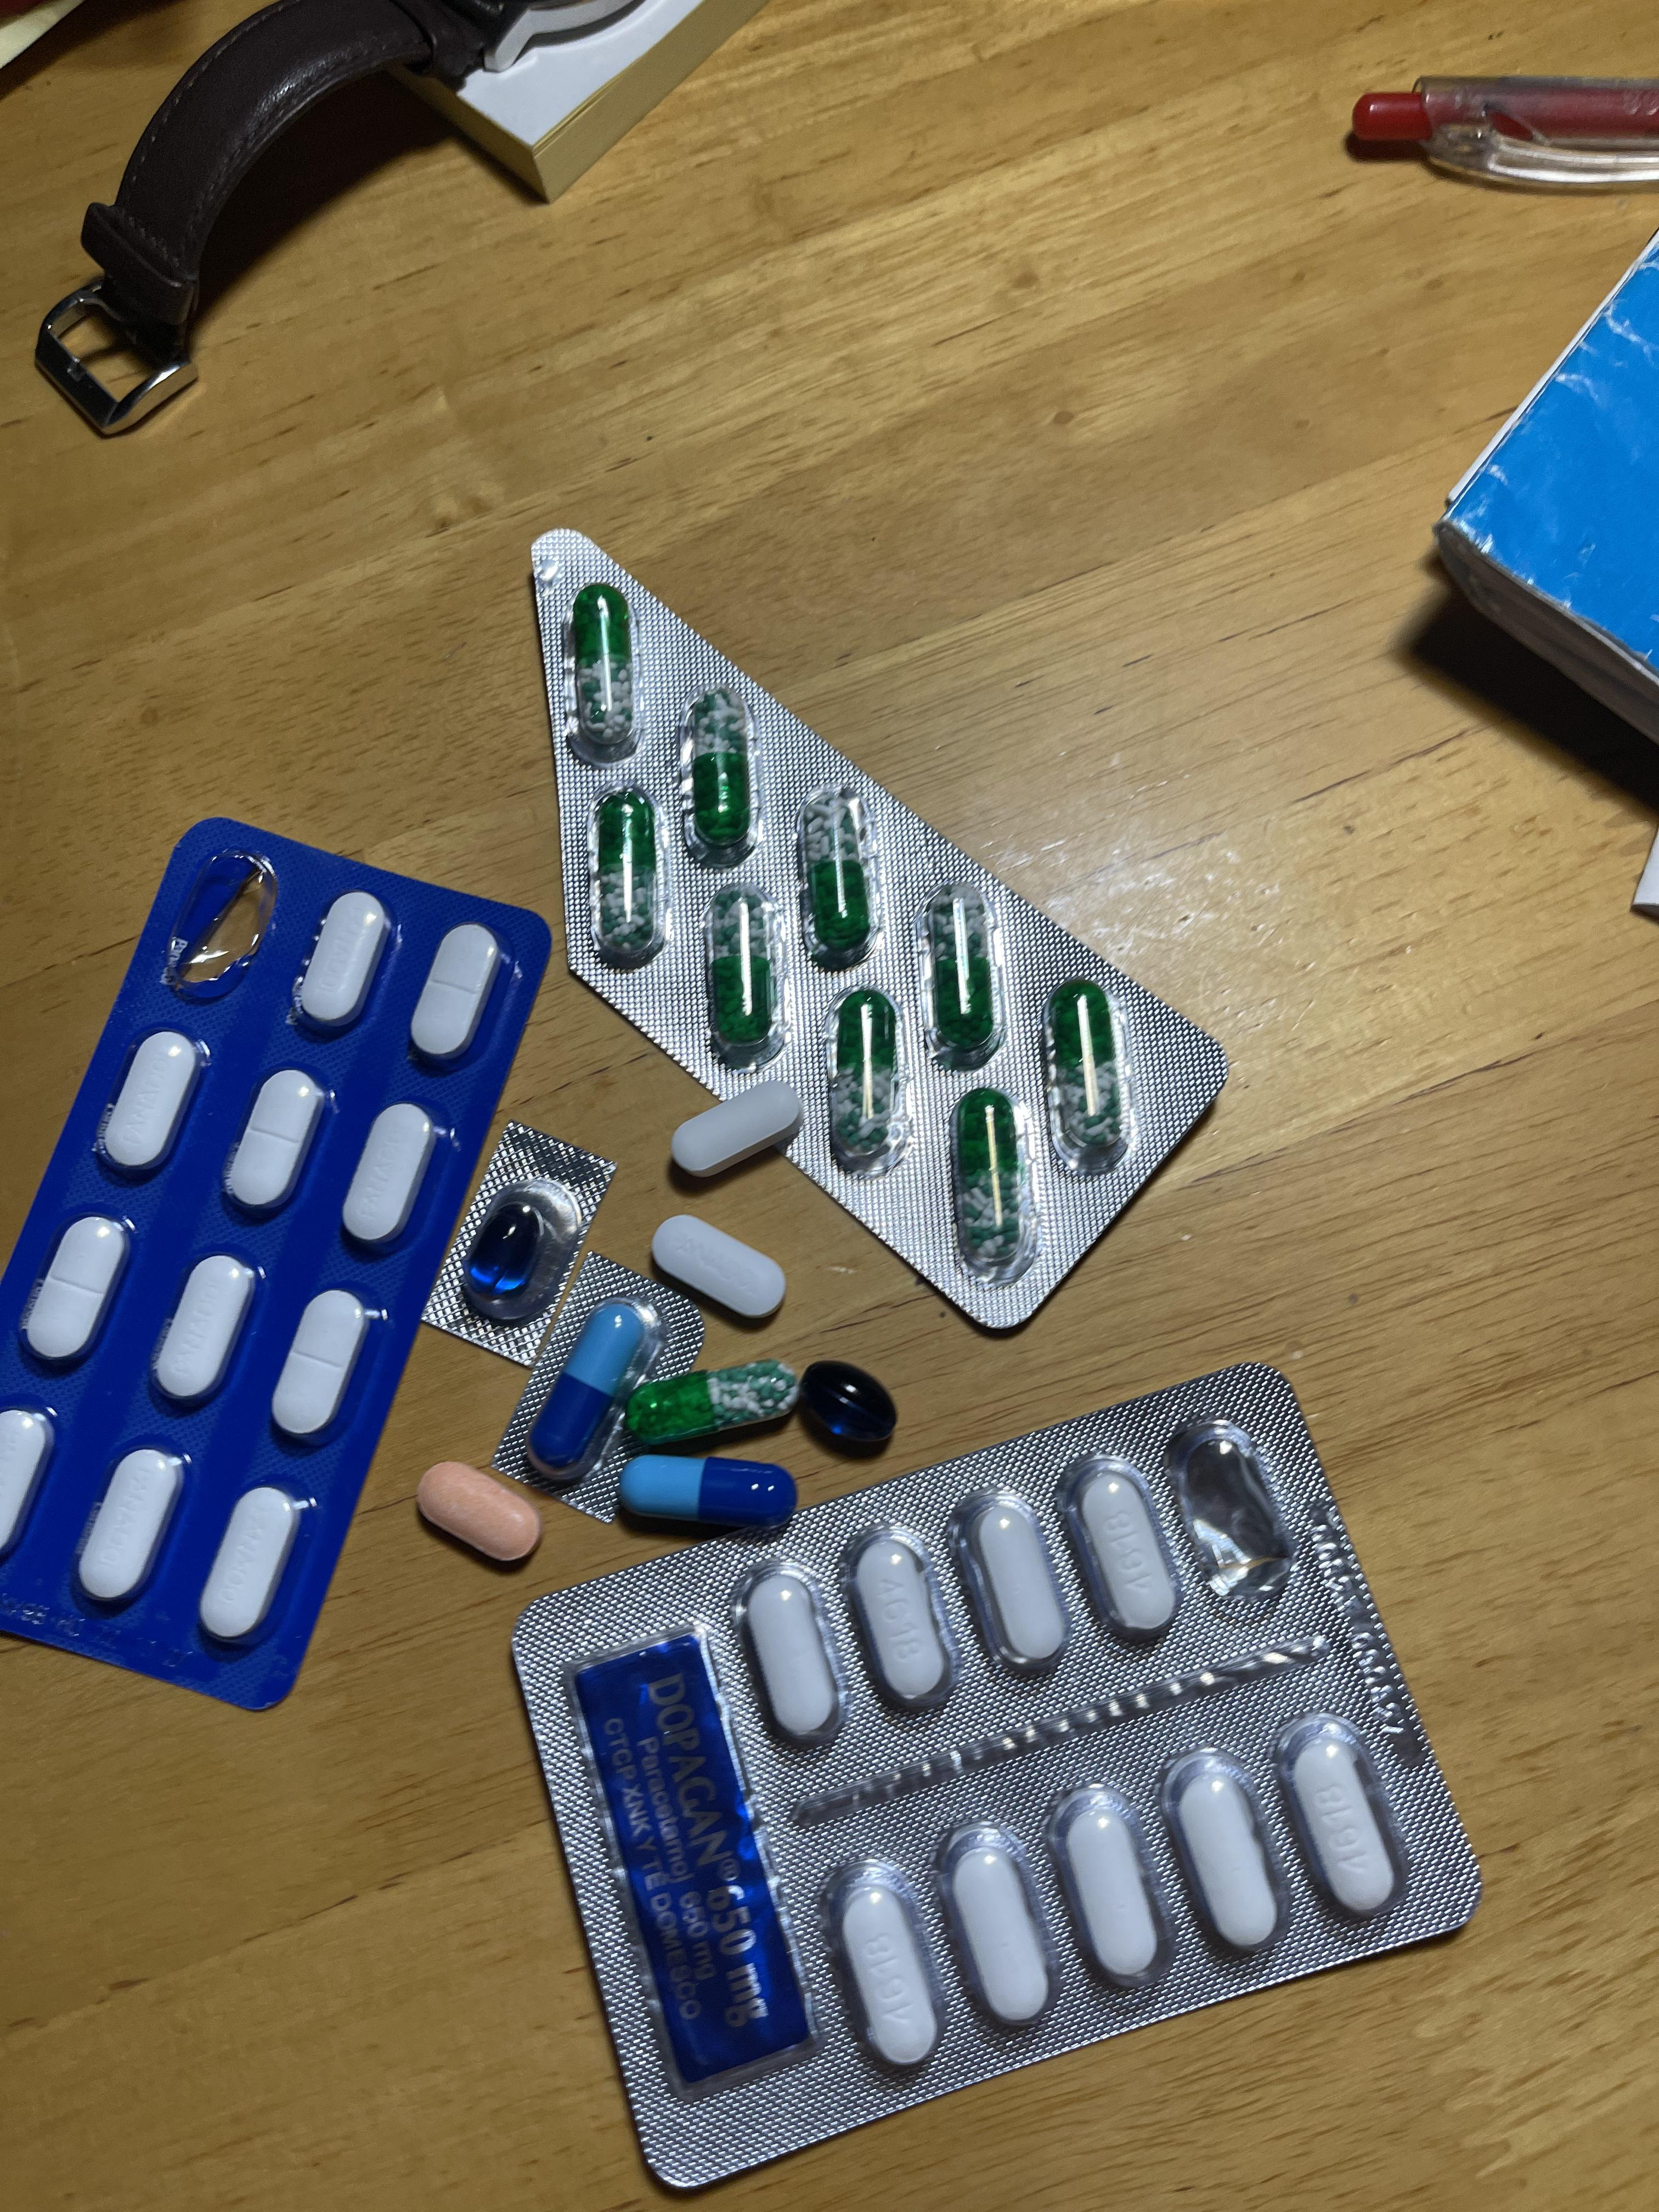Lincomyxin_500mg: (798, 1359, 894, 1446), (465, 1198, 547, 1298)
Loratadine_10mg: (415, 1463, 545, 1562)
Paracetamol_350mg: (21, 1214, 132, 1367), (78, 1447, 186, 1604), (153, 1254, 258, 1407), (272, 1289, 373, 1442), (200, 1487, 301, 1641), (652, 1216, 793, 1324), (101, 1031, 202, 1174), (227, 1068, 326, 1212), (342, 1103, 439, 1247), (296, 895, 392, 1028), (413, 925, 502, 1061)
Paracetamol_500mg: (1270, 1712, 1412, 1928), (816, 1855, 946, 2069), (1155, 1745, 1284, 1959), (1051, 1456, 1180, 1642), (946, 1839, 1047, 2020), (1060, 1799, 1159, 1982), (967, 1498, 1066, 1662), (742, 1569, 831, 1737), (857, 1548, 946, 1703), (671, 1087, 803, 1179)
Paracetamol_650mg: (950, 1089, 1039, 1280), (1040, 979, 1129, 1169), (920, 890, 1007, 1069), (702, 888, 784, 1066), (826, 988, 904, 1172), (627, 1359, 795, 1444), (796, 786, 875, 960), (592, 789, 666, 958), (570, 587, 636, 754), (688, 695, 753, 848)
pill: (525, 1296, 667, 1479), (622, 1461, 793, 1529)
